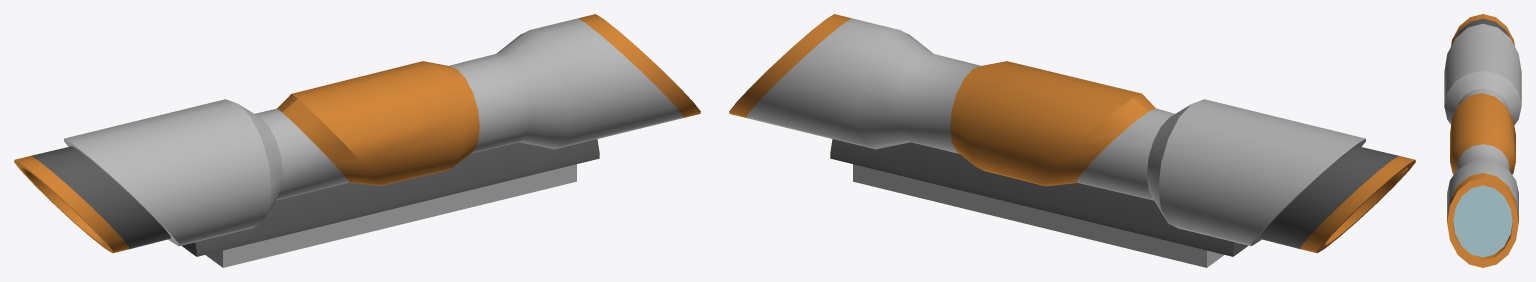
File: Scope_2.gltf
3 renders of one model, left to right at view 1: azimuth 30°, elevation 25°; view 2: azimuth 150°, elevation 25°; view 3: azimuth 270°, elevation 25°, orthographic. The views are drawn at different scales.
Parts seen in each view (by area): view 1: Scope_2; view 2: Scope_2; view 3: Scope_2.
Part boxes in pixels (x1,y1,x2,y2): Scope_2: [14, 14, 700, 267]; Scope_2: [729, 14, 1415, 267]; Scope_2: [1444, 14, 1521, 267].
Bounding box in the file's own units: 0.721 × 0.1544 × 0.1236.
